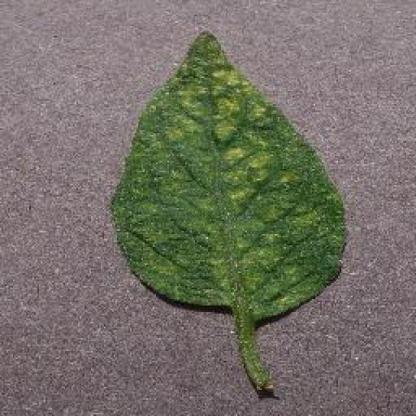Tomato_Spider_Mites: (112, 31, 346, 318)
